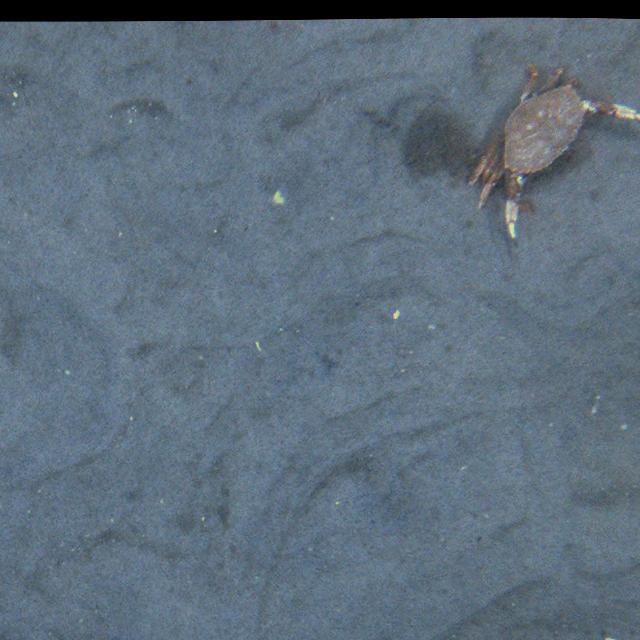crab: (467, 68, 637, 240)
